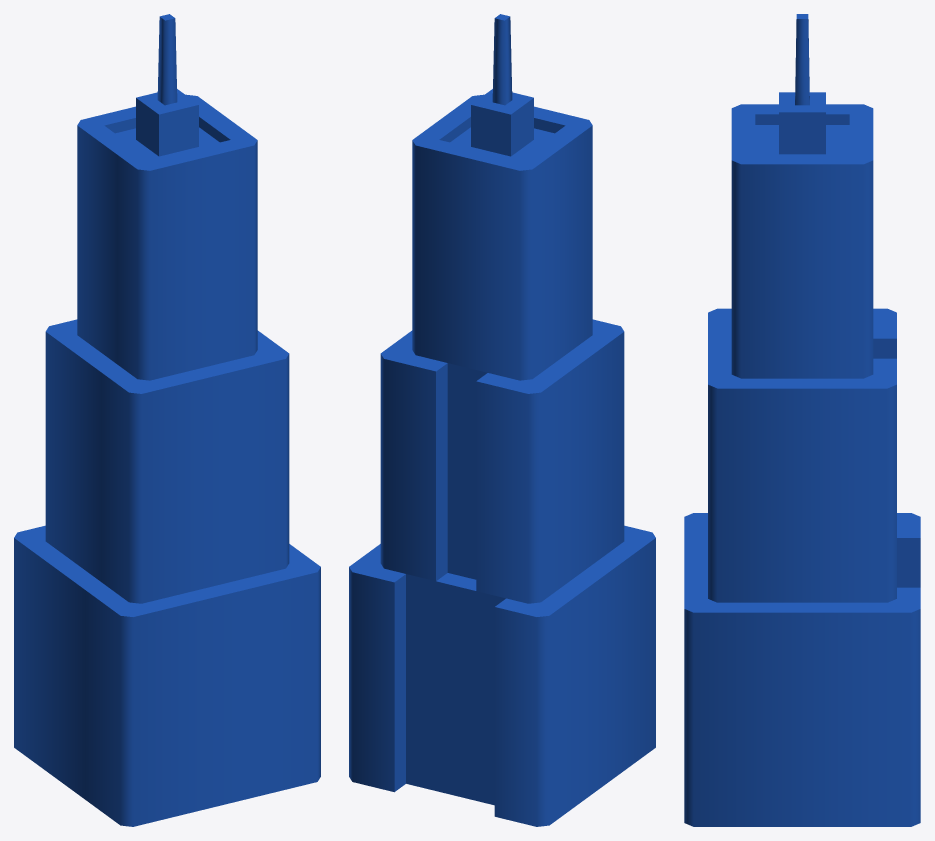
File: low-detail-building-i.glb
The picture shows the model from 3 angles, left to right: view 1: azimuth 30°, elevation 25°; view 2: azimuth 150°, elevation 25°; view 3: azimuth 270°, elevation 25°; orthographic projection. The views are drawn at different scales.
Parts seen in each view (by area): view 1: low-detail-building-i; view 2: low-detail-building-i; view 3: low-detail-building-i.
Part boxes in pixels (box(x1,y1,x2,y2)): low-detail-building-i: box(14, 14, 320, 826); low-detail-building-i: box(349, 14, 655, 826); low-detail-building-i: box(684, 14, 920, 826).
Bounding box in the file's own units: 0.5 × 1.77 × 0.5.
